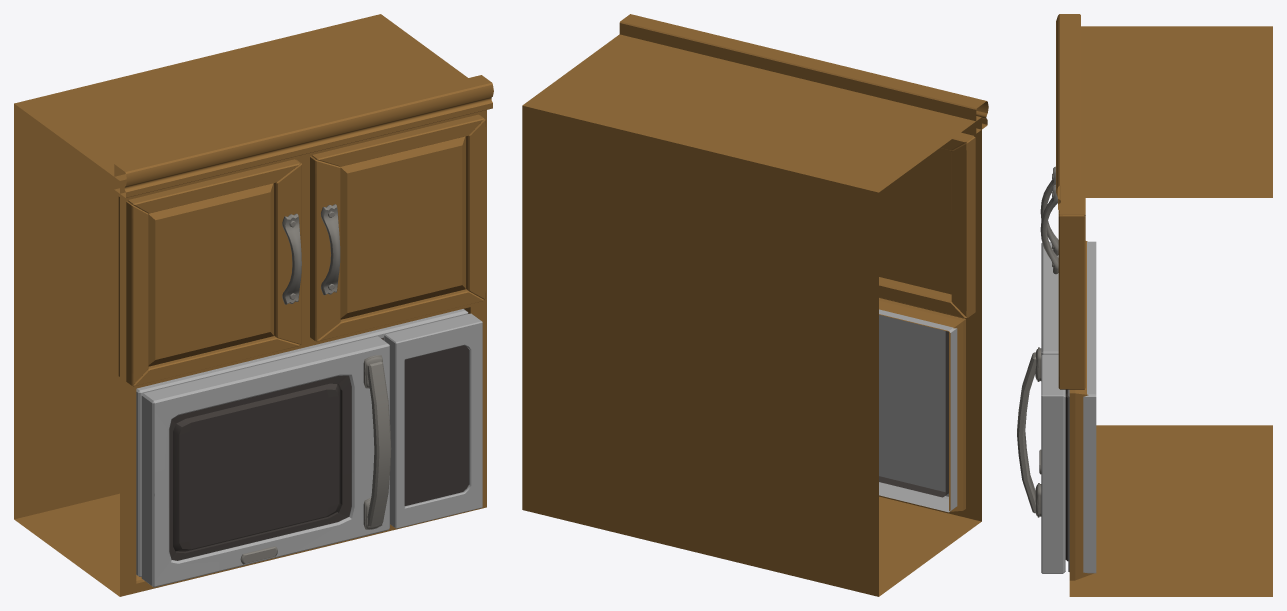
Rendered from MicrowaveCabinet.fbx.
3 views of the same model, side by side, from view 1: azimuth 30°, elevation 25°; view 2: azimuth 150°, elevation 25°; view 3: azimuth 270°, elevation 25° (orthographic). The views are drawn at different scales.
Visible parts, largest first — view 1: MicrowaveCabinet; view 2: MicrowaveCabinet; view 3: MicrowaveCabinet.
Part boxes in pixels (<box>): MicrowaveCabinet: <box>14,14,493,596</box>; MicrowaveCabinet: <box>522,14,988,596</box>; MicrowaveCabinet: <box>1017,14,1272,596</box>.
Bounding box in the file's own units: 1.5 × 1.68 × 0.9449.
